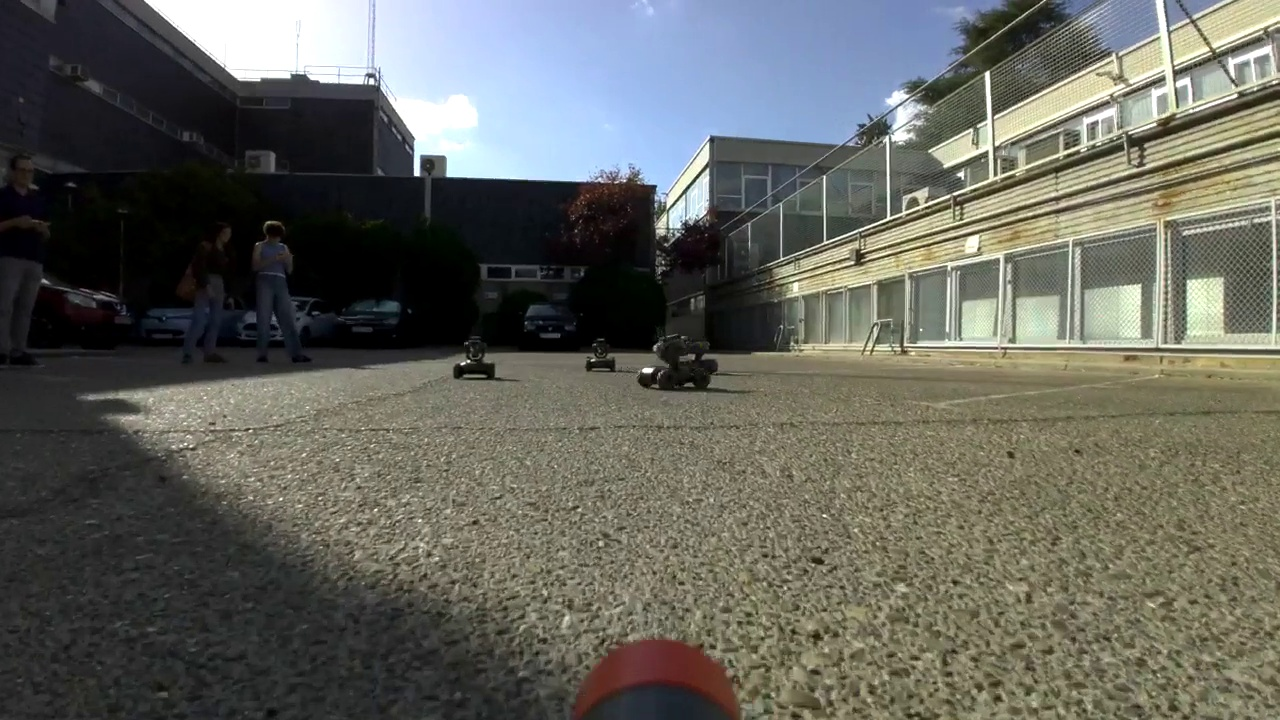robot: (636, 329, 712, 389), (454, 330, 495, 381), (686, 339, 717, 377), (588, 334, 616, 374)
